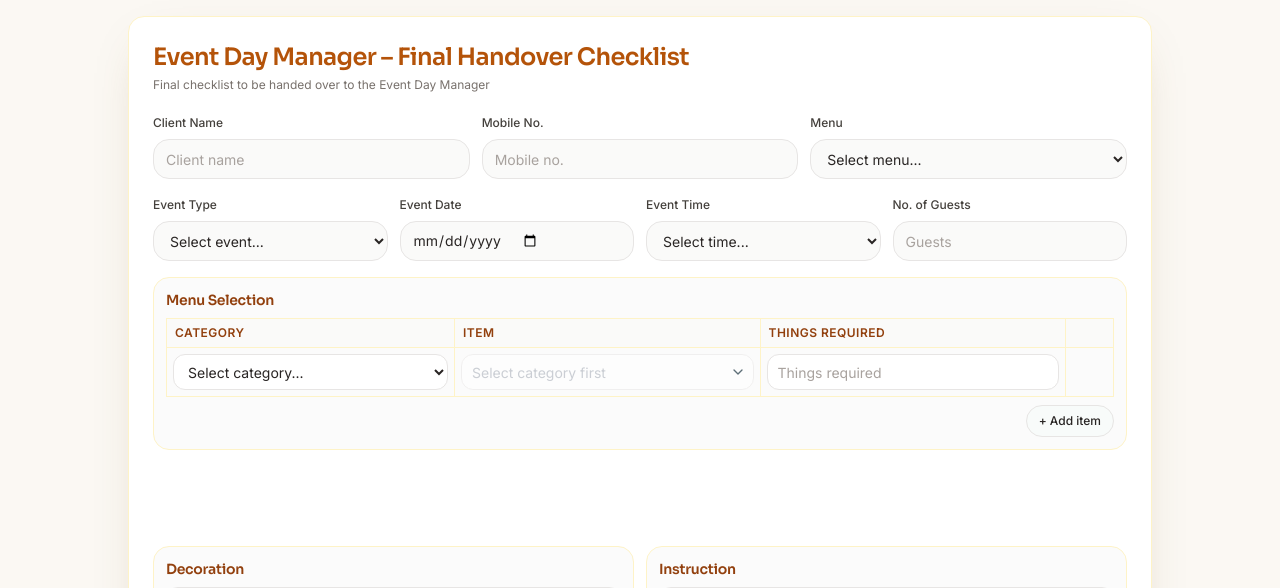
Test: Banquet public handover checklist › removes an extra item row
Click the button "+ Add item". click: click(1070, 421)
box: [1026,405,1114,437]
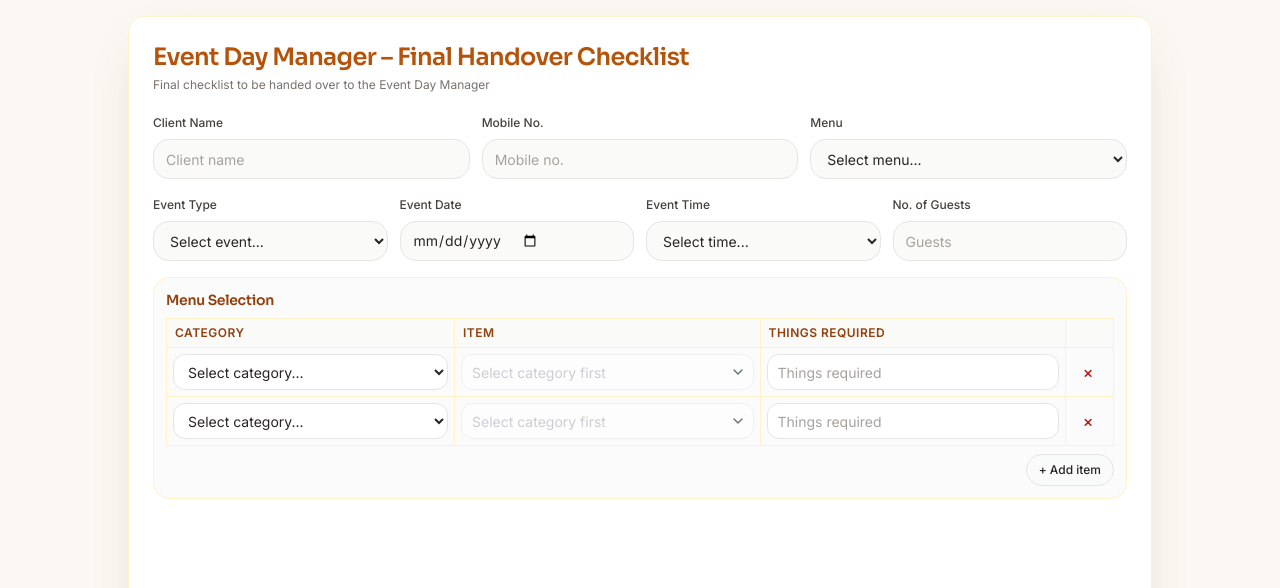
Check: the number of dropdowns named "Row 1 category" is 2, box [173,354,448,390]; [173,403,448,439]
Click the button named "Remove item". click: click(1088, 372)
box: [1072,356,1104,388]
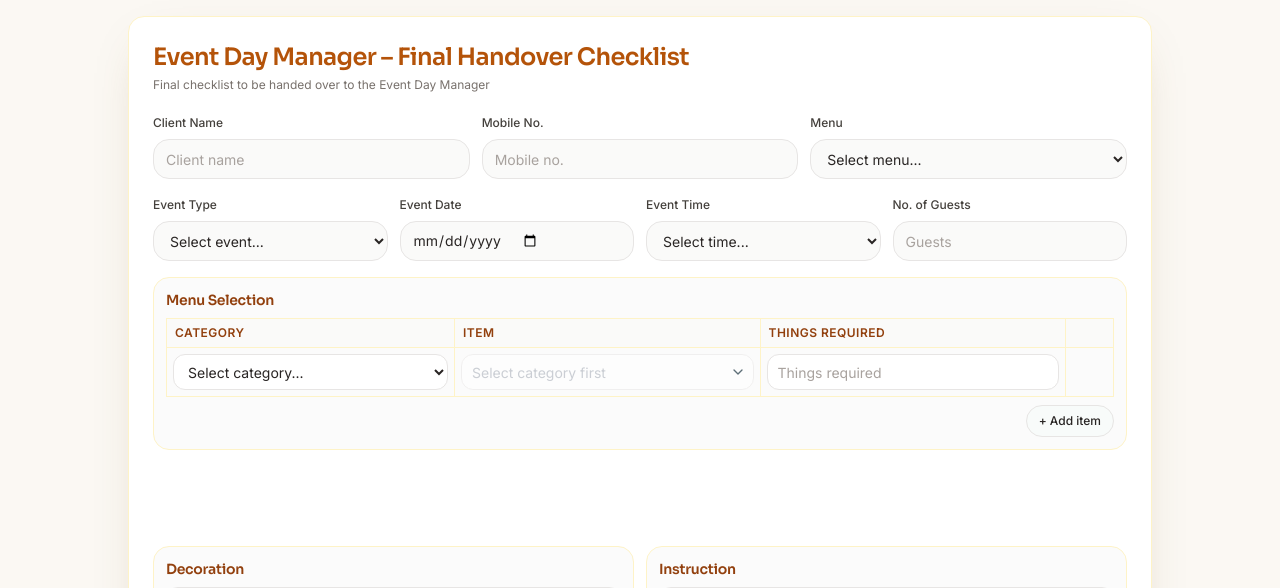
Check: the number of dropdowns named "Row 1 category" is 1, box [173,354,448,390]
